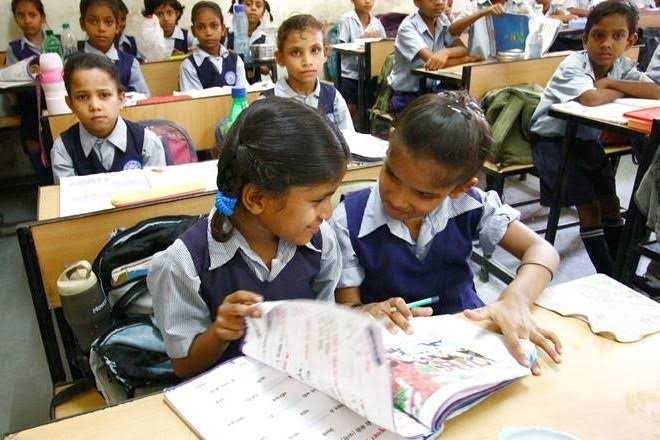student: (223, 98, 345, 242), (378, 84, 495, 219), (61, 60, 131, 132), (584, 1, 645, 69), (267, 23, 334, 84), (77, 4, 120, 51), (187, 6, 225, 50), (12, 4, 52, 37), (148, 4, 186, 31), (239, 1, 264, 24), (418, 1, 446, 19), (346, 1, 374, 12)
